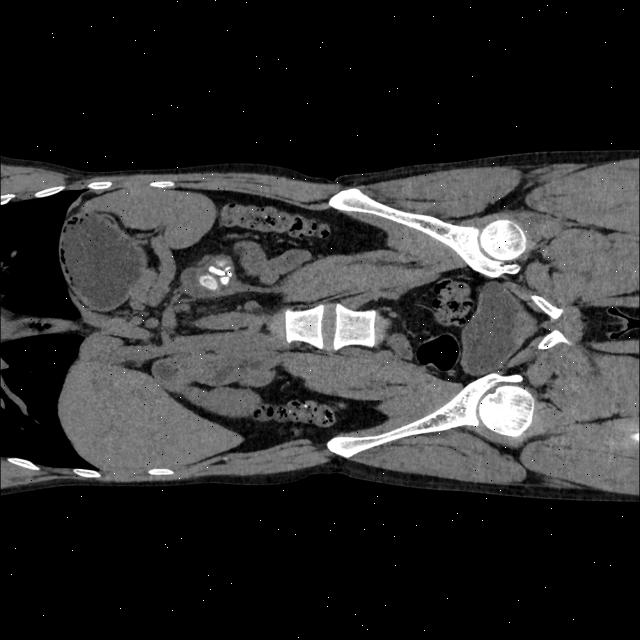kidneystone: (199, 274, 219, 290), (221, 265, 233, 284), (208, 265, 225, 275)
